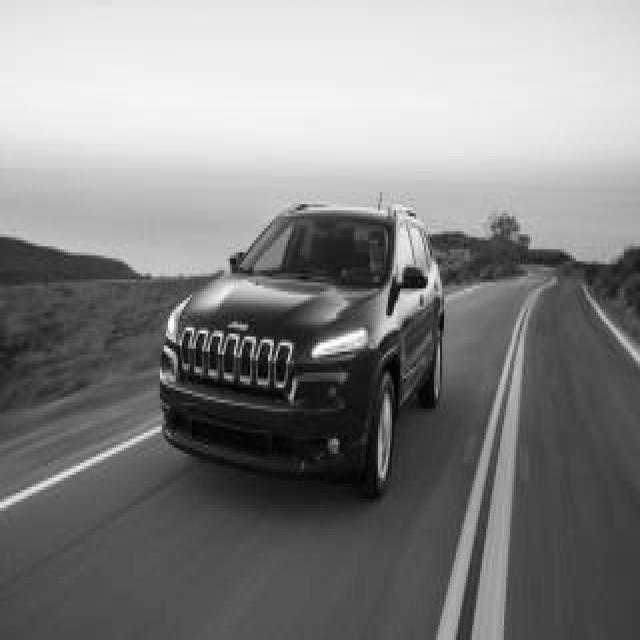Car: (160, 205, 443, 495)
